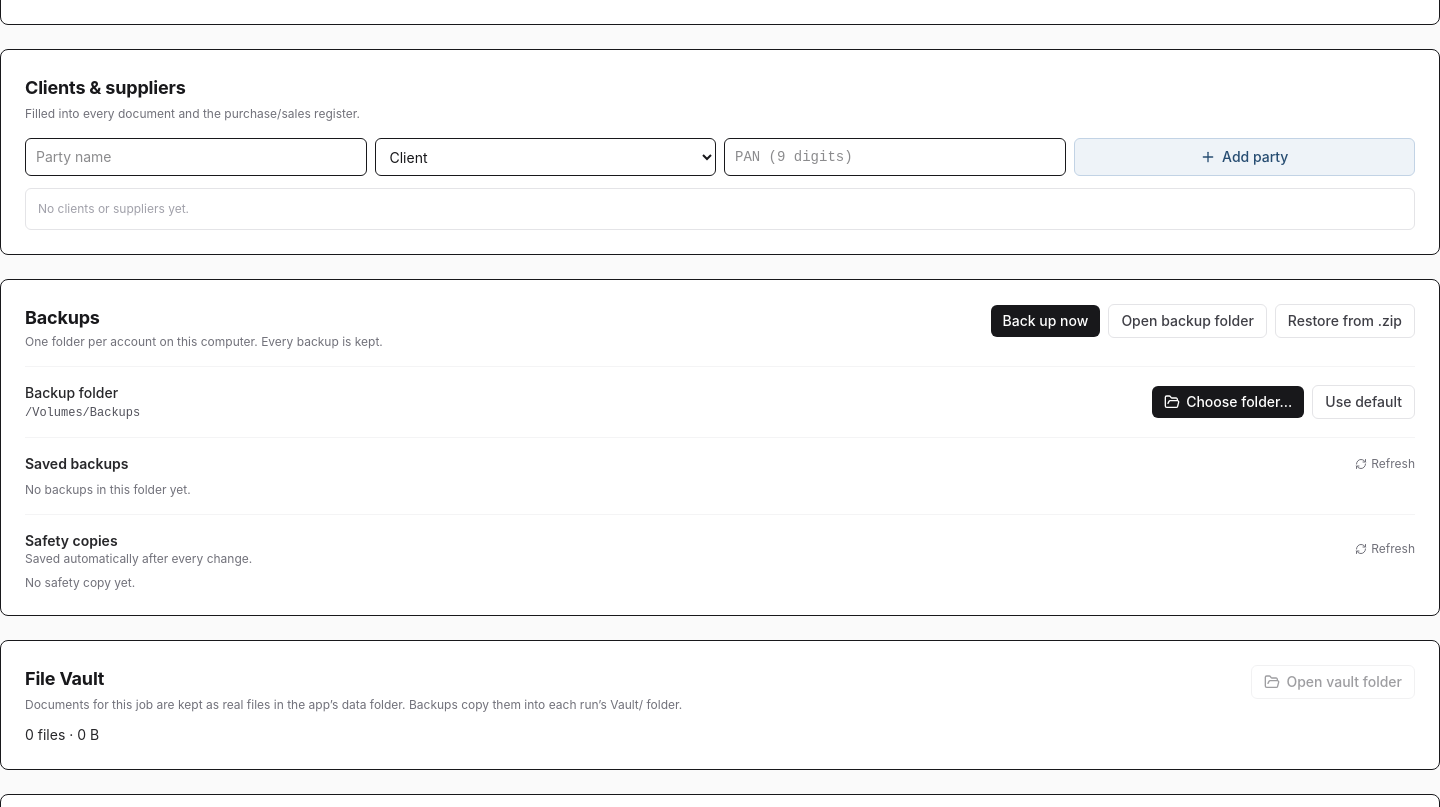
Test: backup folder setting › resets to the default folder
(page scrolled)
Expected: the text with test id "backup-location-current" reads "/Volumes/Backups", [25,406,140,420]
Click the button with test id "backup-location-reset": (1364, 402) [1312,385,1415,419]
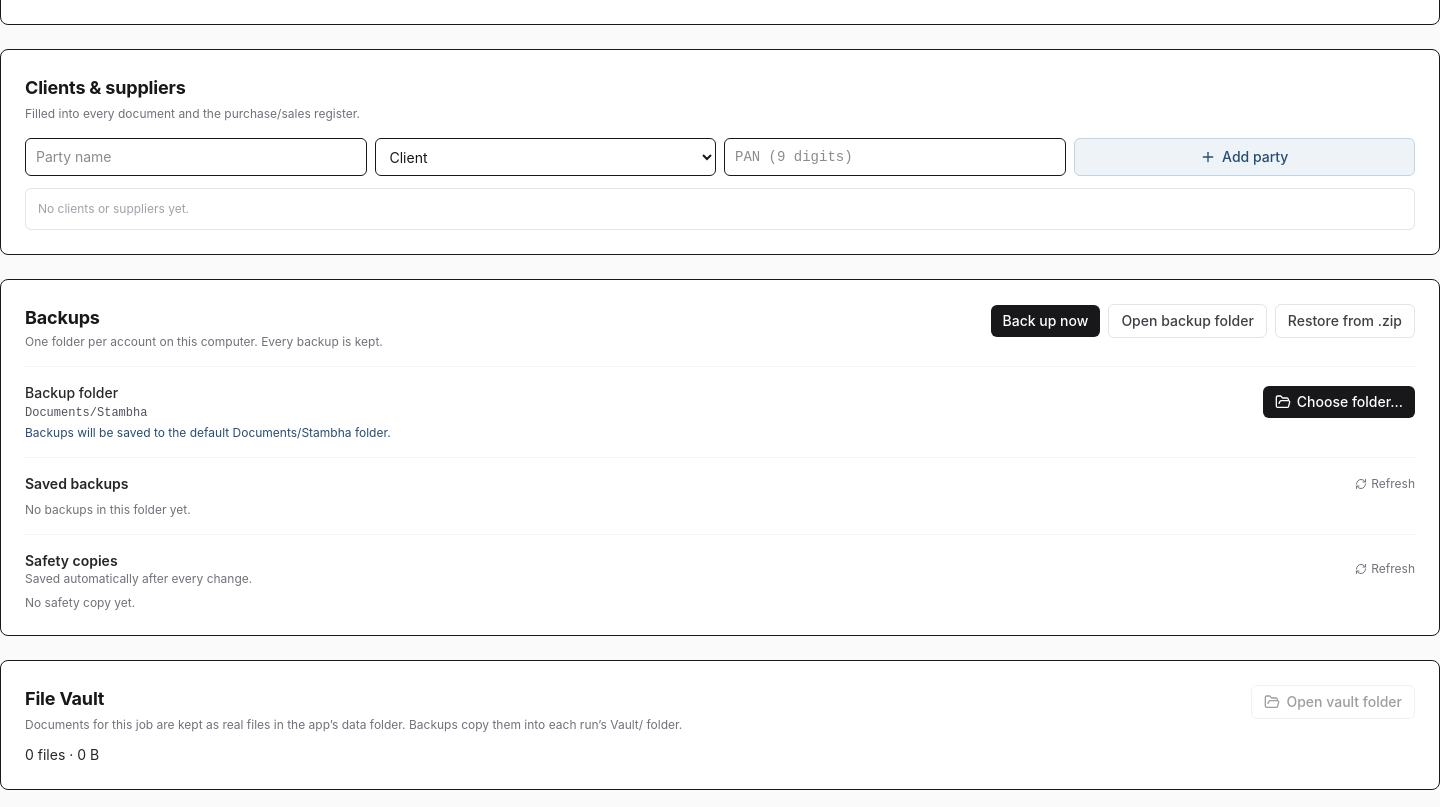
Expected: the text with test id "backup-location-current" reads "Documents/Stambha", [25,406,147,420]
Expected: the button with test id "backup-location-reset" is gone
